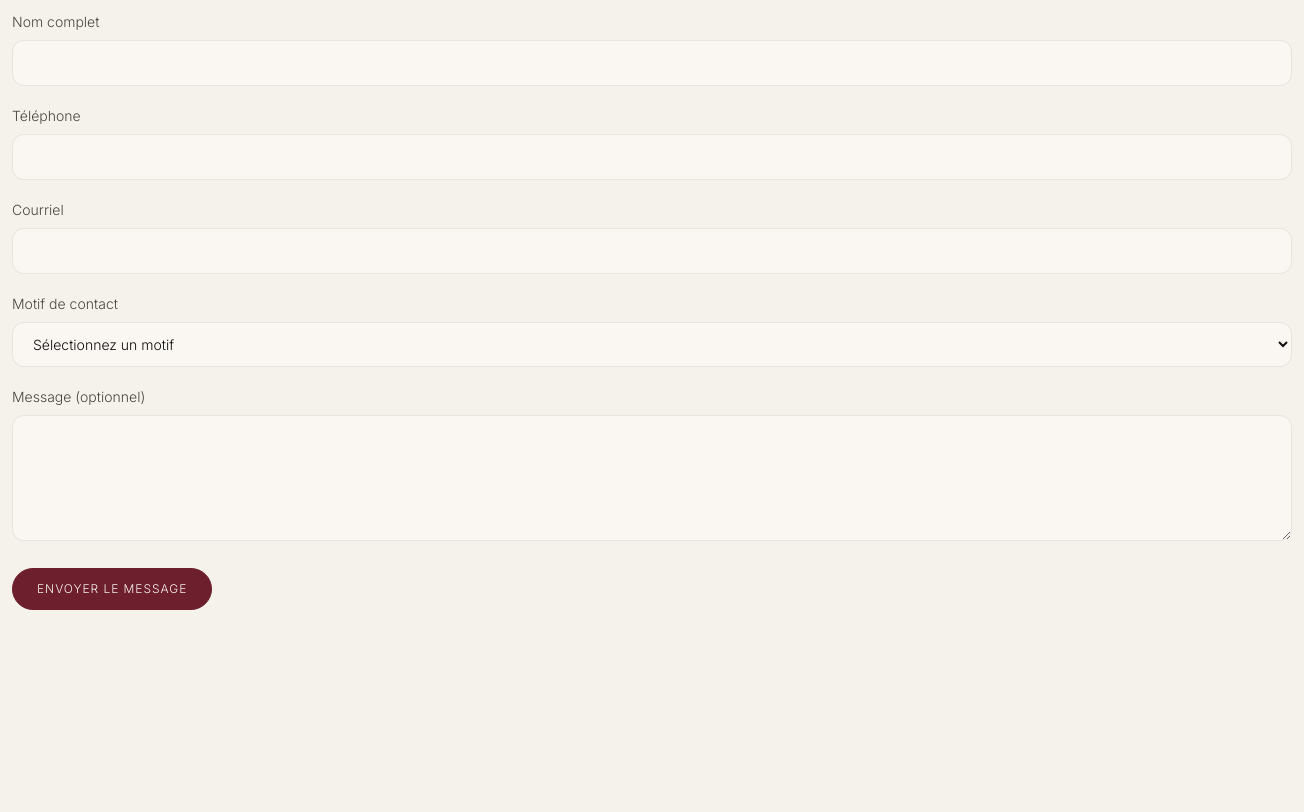
Test: <ContactForm> › shows validation errors on empty submit but not for optional message
This screenshot has width=1304, height=812.
What coordinates should you click on to do the following:
click the button "Envoyer le message"
I would click on:
 (112, 589)
Its box is [12,568,212,610].
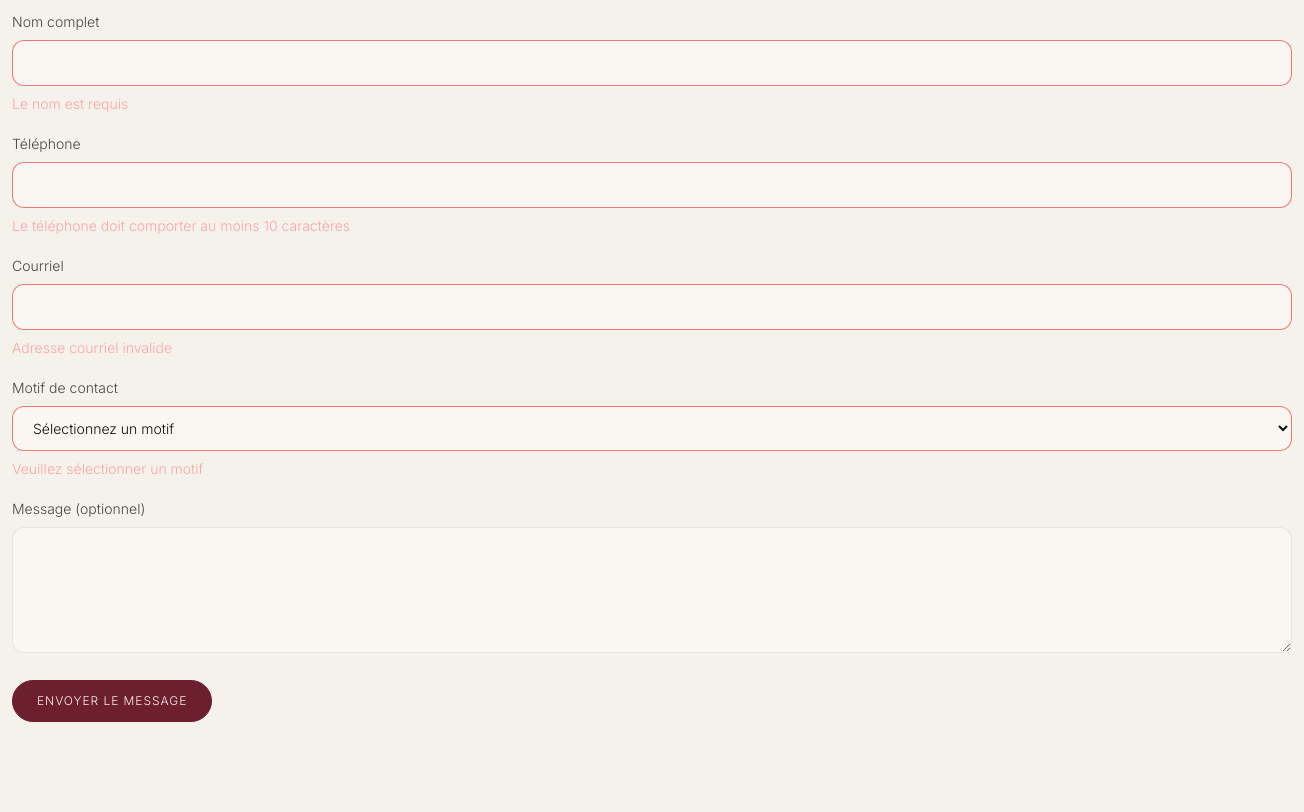
Result: the text "Le nom est requis" is shown at [12,95,128,112]
Result: the text "Le téléphone doit comporter au moins 10 caractères" is shown at [12,217,350,234]
Result: the text "Adresse courriel invalide" is shown at [12,339,172,356]
